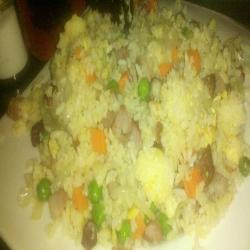rice: (46, 25, 228, 217)
